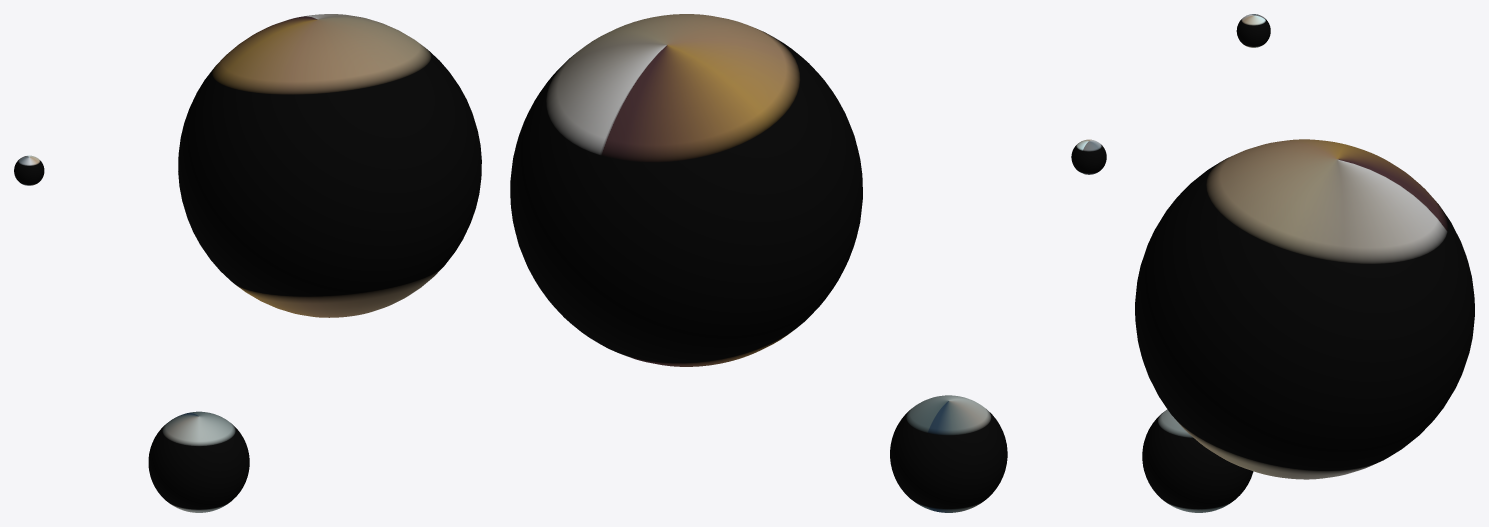
File: skybox_static_planets_01.glb
3 views of the same model, side by side, from view 1: azimuth 30°, elevation 25°; view 2: azimuth 150°, elevation 25°; view 3: azimuth 270°, elevation 25° (orthographic). The views are drawn at different scales.
Parts seen in each view (by area): view 1: planet_terrestrial, planet_moon_01, planet_moon_02; view 2: planet_terrestrial, planet_moon_01, planet_moon_02; view 3: planet_terrestrial, planet_moon_01, planet_moon_02.
Part boxes in pixels (x1,y1,x2,y2): planet_terrestrial: (178,14,481,317); planet_moon_01: (148,411,249,512); planet_moon_02: (14,155,44,185); planet_terrestrial: (510,14,862,366); planet_moon_01: (890,395,1007,512); planet_moon_02: (1071,139,1106,174); planet_terrestrial: (1135,139,1474,479); planet_moon_01: (1142,409,1253,512); planet_moon_02: (1236,14,1270,47).
Size of the model in its own units: 4.96 by 4.07 by 2.79.
Materials: 3 (3 with a texture image).
